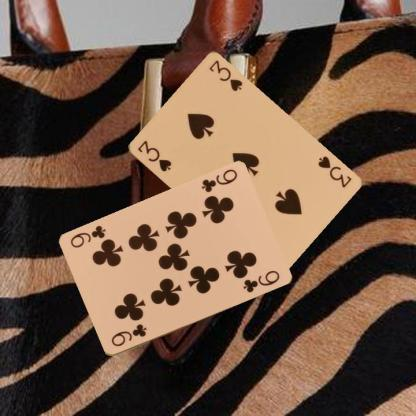3s: (315, 153, 353, 190), (134, 138, 172, 174)
9c: (198, 167, 239, 194), (108, 322, 148, 349)
